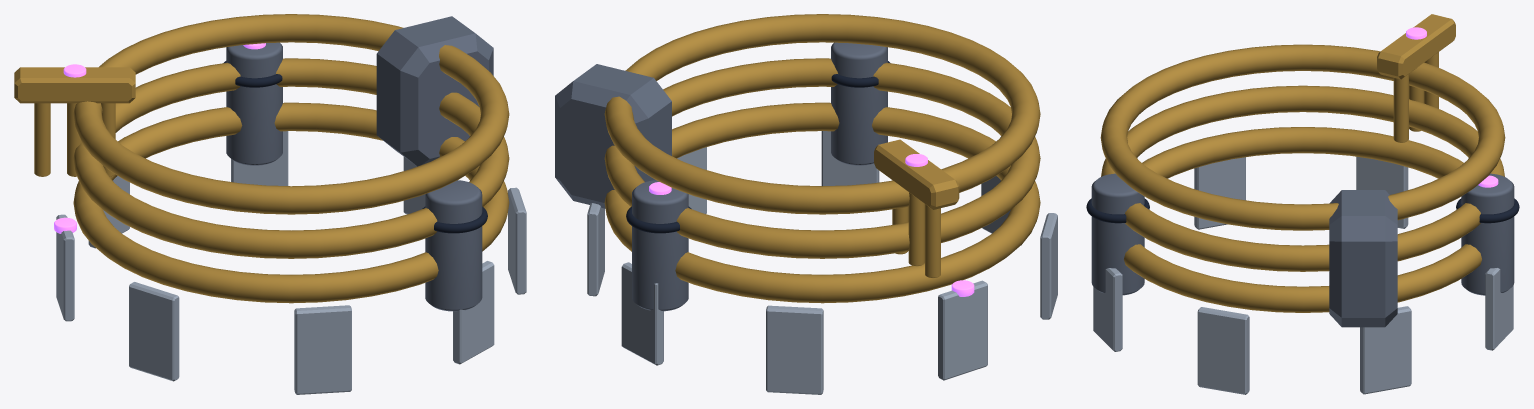
File: tower_singularity_rate_s5.glb
3 renders of one model, left to right at view 1: azimuth 30°, elevation 25°; view 2: azimuth 150°, elevation 25°; view 3: azimuth 270°, elevation 25°, orthographic. The views are drawn at different scales.
Visible parts, largest first — view 1: singularity_stem_coil2, singularity_stem_coil1, singularity_stem_coil0, singularity_stem_junction, singularity_stem_cap4.363323129985824, singularity_stem_cap1.9198621771937625, singularity_stem_fin6, singularity_stem_fin7, singularity_manifold_header, singularity_stem_fin5, singularity_stem_fin4, singularity_stem_fin0 (+7 smaller); view 2: singularity_stem_coil2, singularity_stem_coil1, singularity_stem_coil0, singularity_stem_junction, singularity_stem_cap1.9198621771937625, singularity_stem_cap4.363323129985824, singularity_stem_fin1, singularity_stem_fin0, singularity_manifold_header, singularity_stem_fin2, singularity_stem_fin7, singularity_stem_fin5 (+7 smaller); view 3: singularity_stem_coil2, singularity_stem_coil1, singularity_stem_coil0, singularity_stem_junction, singularity_stem_cap4.363323129985824, singularity_stem_fin4, singularity_stem_cap1.9198621771937625, singularity_stem_fin3, singularity_manifold_header, singularity_stem_fin7, singularity_stem_fin5, singularity_stem_fin2 (+4 smaller).
Part boxes in pixels (box(x1,y1,x2,y2)): singularity_stem_coil2: box(73, 14, 509, 214); singularity_stem_coil1: box(73, 58, 509, 258); singularity_stem_coil0: box(73, 102, 509, 303); singularity_stem_junction: box(376, 16, 493, 166); singularity_stem_cap4.363323129985824: box(425, 180, 482, 311); singularity_stem_cap1.9198621771937625: box(226, 42, 282, 165); singularity_stem_fin6: box(294, 305, 351, 394); singularity_stem_fin7: box(129, 282, 179, 381); singularity_manifold_header: box(14, 67, 135, 103); singularity_stem_fin5: box(453, 261, 494, 364); singularity_stem_fin4: box(508, 187, 526, 294); singularity_stem_fin0: box(56, 214, 74, 321); singularity_stem_coil2: box(604, 14, 1040, 214); singularity_stem_coil1: box(604, 58, 1040, 258); singularity_stem_coil0: box(604, 102, 1040, 303); singularity_stem_junction: box(555, 64, 671, 208); singularity_stem_cap1.9198621771937625: box(632, 180, 688, 311); singularity_stem_cap4.363323129985824: box(831, 42, 887, 165); singularity_stem_fin1: box(766, 305, 823, 394); singularity_stem_fin0: box(938, 280, 987, 380); singularity_manifold_header: box(874, 139, 959, 209); singularity_stem_fin2: box(621, 262, 663, 365); singularity_stem_fin7: box(1040, 213, 1057, 319); singularity_stem_fin5: box(821, 131, 879, 186); singularity_stem_coil2: box(1100, 44, 1505, 230); singularity_stem_coil1: box(1101, 85, 1504, 271); singularity_stem_coil0: box(1124, 127, 1481, 312); singularity_stem_junction: box(1329, 190, 1397, 327); singularity_stem_cap4.363323129985824: box(1091, 173, 1144, 295); singularity_stem_fin4: box(1197, 307, 1249, 394); singularity_stem_cap1.9198621771937625: box(1461, 173, 1514, 295); singularity_stem_fin3: box(1360, 306, 1411, 394); singularity_manifold_header: box(1377, 14, 1455, 79); singularity_stem_fin7: box(1194, 157, 1245, 229); singularity_stem_fin5: box(1093, 268, 1122, 351); singularity_stem_fin2: box(1485, 268, 1513, 350).
Size of the model in its own units: 1.22 by 0.5986 by 1.15.
